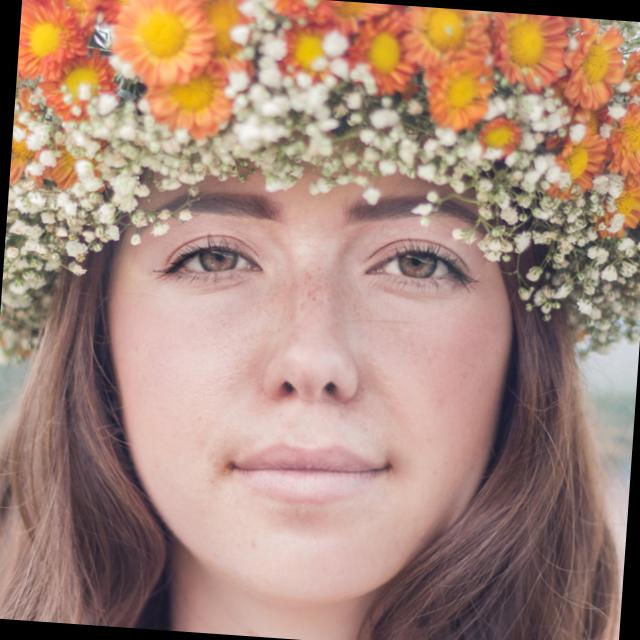face: (35, 97, 630, 640)
